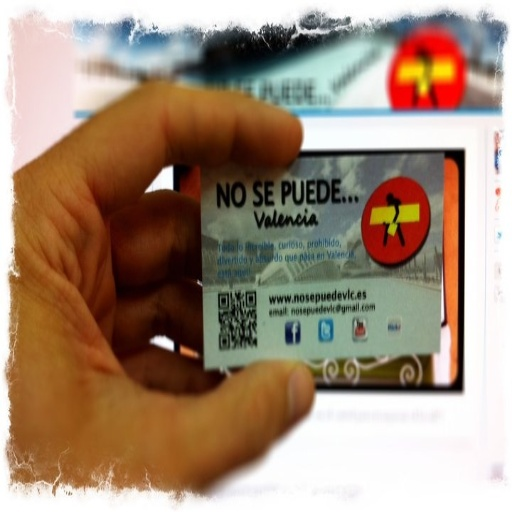hand: (9, 78, 315, 501)
